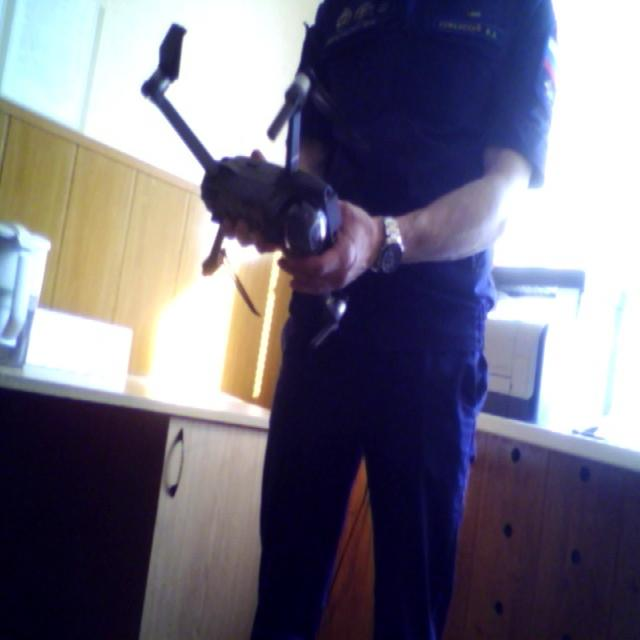drone: (142, 22, 405, 373)
